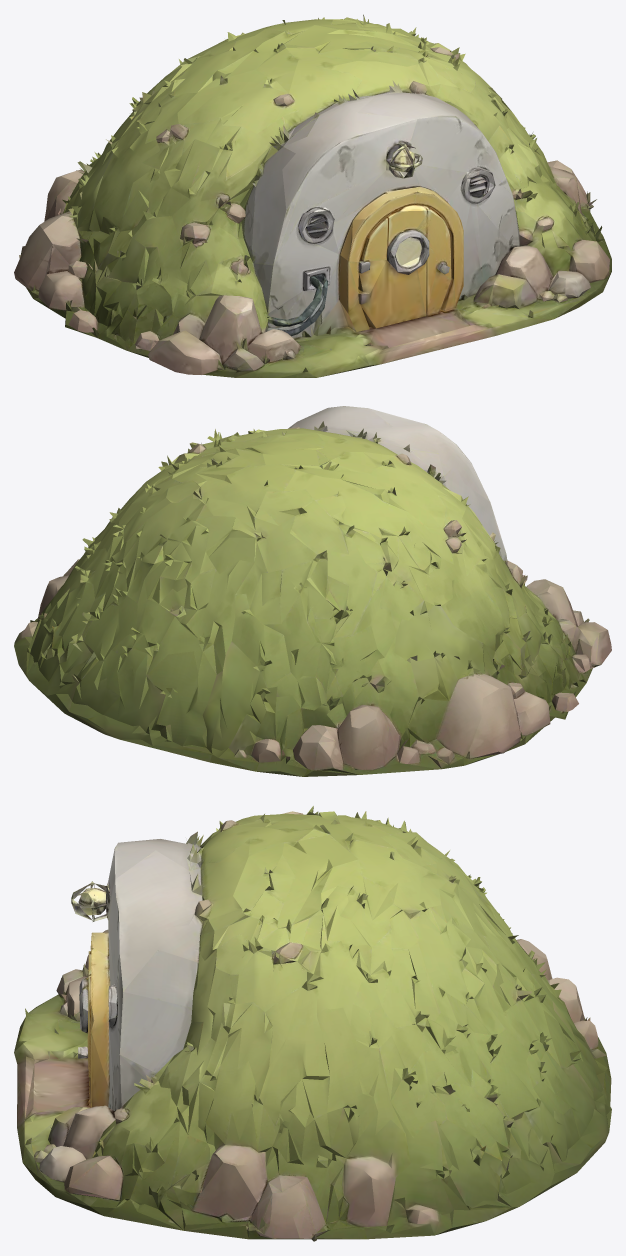
The model's file is bunker.glb.
3 views of the same model, one above another, from view 1: azimuth 30°, elevation 25°; view 2: azimuth 150°, elevation 25°; view 3: azimuth 270°, elevation 25° (orthographic). The views are drawn at different scales.
Bounding box in the file's own units: 1.9 × 0.766 × 1.61.
1 material, 1 textured.
